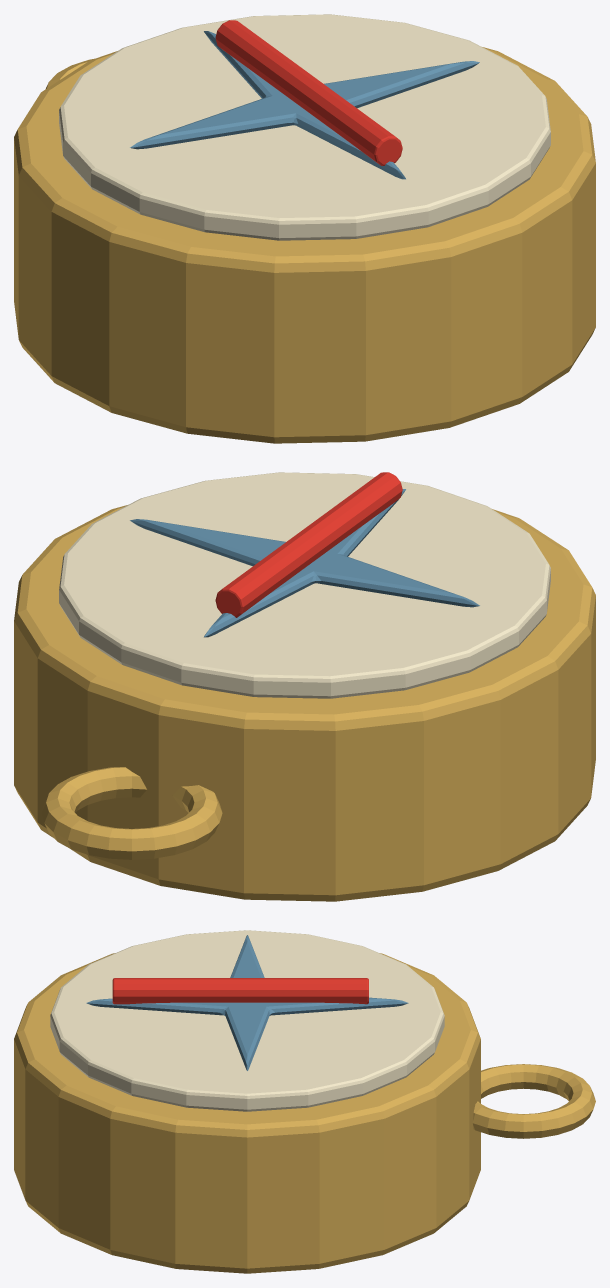
Rendered from P022_compass.glb.
The picture shows the model from 3 angles, top to bottom: view 1: azimuth 30°, elevation 25°; view 2: azimuth 150°, elevation 25°; view 3: azimuth 270°, elevation 25°; orthographic projection. The views are drawn at different scales.
Parts seen in each view (by area): view 1: P022_housing_001, P022_face_002, P022_compass, P022_needle_004; view 2: P022_housing_001, P022_face_002, P022_loop_005, P022_compass, P022_needle_004; view 3: P022_housing_001, P022_face_002, P022_needle_004, P022_loop_005, P022_compass.
Part boxes in pixels (x1,y1,x2,y2): P022_housing_001: (14, 47, 595, 443); P022_face_002: (59, 14, 550, 240); P022_compass: (130, 31, 479, 179); P022_needle_004: (215, 20, 402, 165); P022_housing_001: (14, 505, 595, 901); P022_face_002: (59, 472, 550, 698); P022_loop_005: (41, 767, 222, 859); P022_compass: (130, 489, 479, 637); P022_needle_004: (215, 472, 402, 617); P022_housing_001: (14, 953, 480, 1273); P022_face_002: (50, 930, 444, 1111); P022_needle_004: (112, 978, 368, 1004); P022_loop_005: (472, 1064, 595, 1138); P022_compass: (86, 935, 408, 1070).
Bounding box in the file's own units: 0.142 × 0.067 × 0.177.
